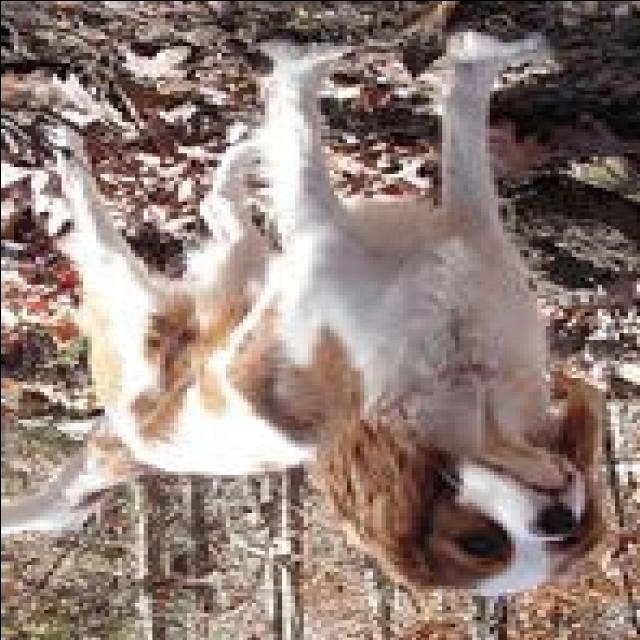blenheim_spaniel: (34, 31, 606, 595)
